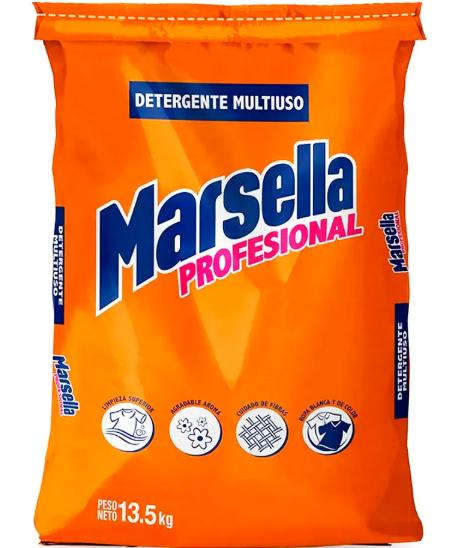brand: (87, 130, 371, 329)
net_weight: (118, 496, 174, 529)
product_name: (133, 82, 311, 120)
